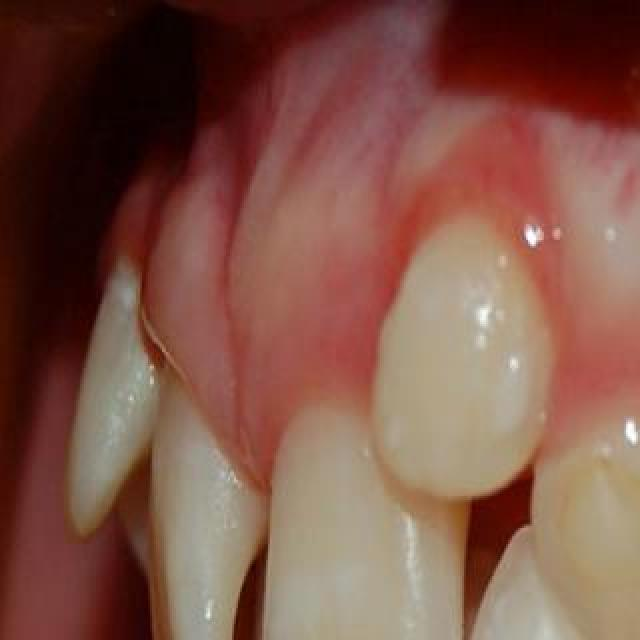maligned: (25, 242, 201, 536), (343, 188, 523, 430)
spacing: (202, 474, 310, 640), (75, 230, 209, 338)
